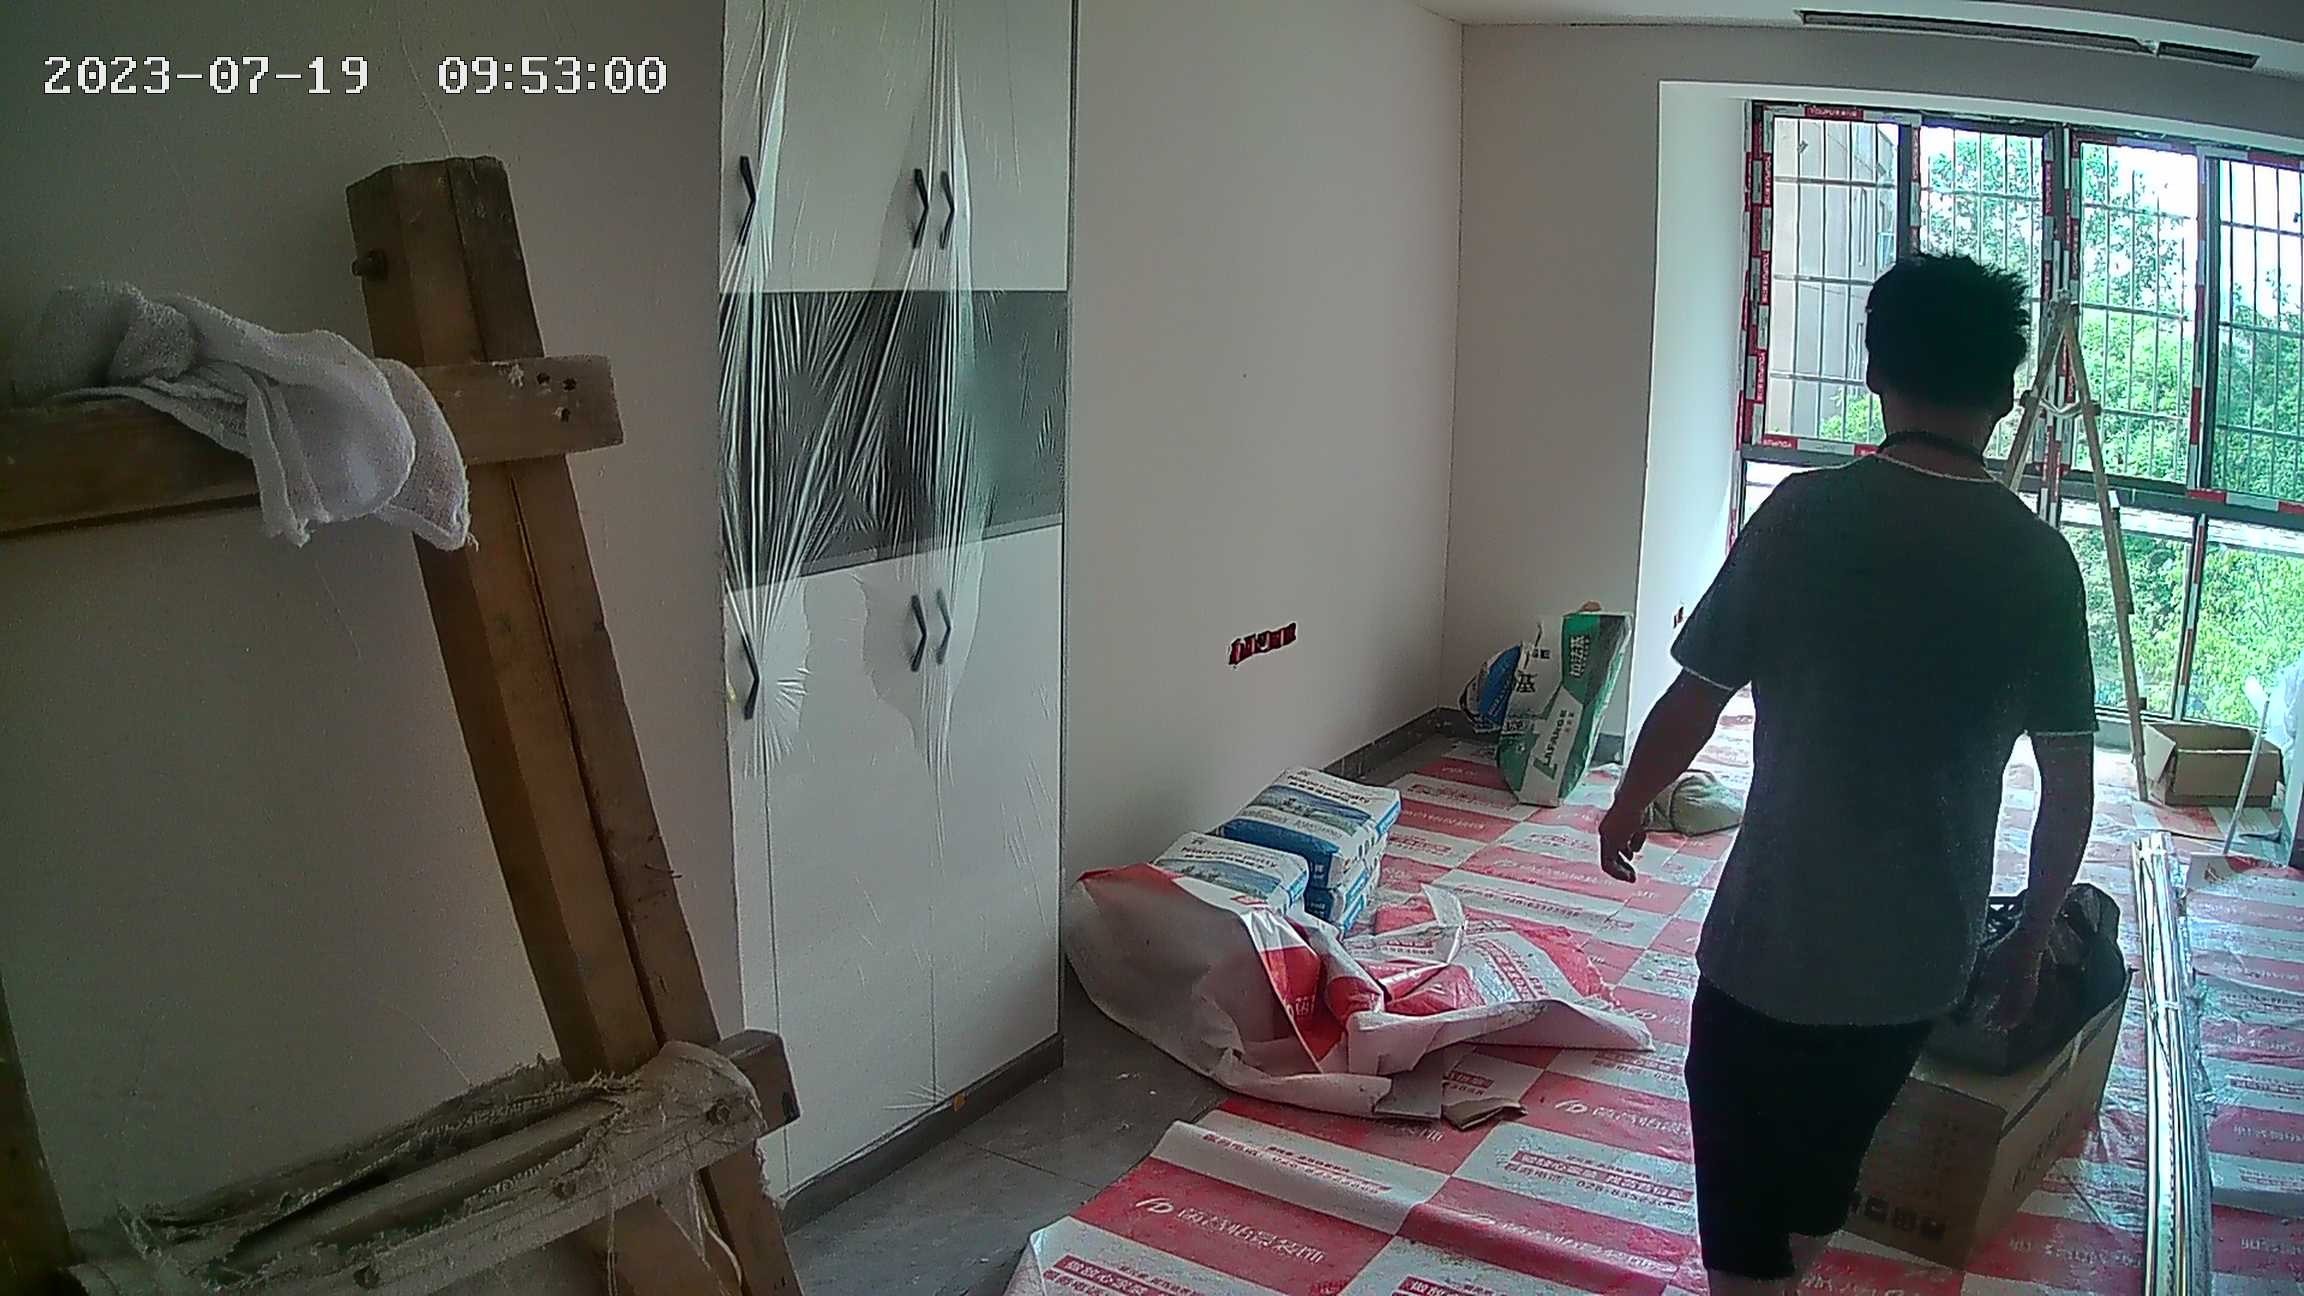people: (1598, 253, 2097, 1296)
window: (1748, 97, 2304, 742)
